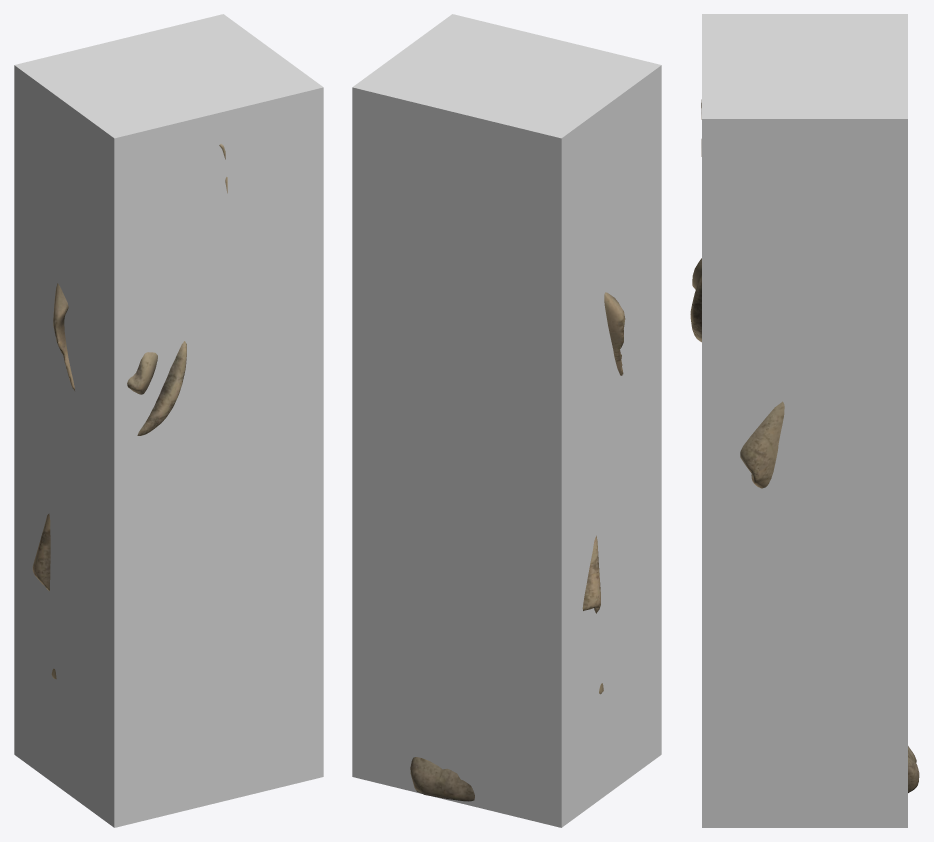
File: mourner.glb
3 views of the same model, side by side, from view 1: azimuth 30°, elevation 25°; view 2: azimuth 150°, elevation 25°; view 3: azimuth 270°, elevation 25° (orthographic). The views are drawn at different scales.
Parts seen in each view (by area): view 1: col_mourner, mourner; view 2: col_mourner, mourner; view 3: col_mourner, mourner.
Boxes of the visible parts, bbox=[...] form: col_mourner: bbox=[14, 14, 323, 827]; mourner: bbox=[32, 144, 227, 679]; col_mourner: bbox=[352, 14, 661, 827]; mourner: bbox=[410, 292, 625, 801]; col_mourner: bbox=[702, 14, 907, 827]; mourner: bbox=[690, 99, 919, 792].
Bounding box in the file's own units: 0.1443 × 0.4089 × 0.1197.
Materials: 1 (1 with a texture image).
